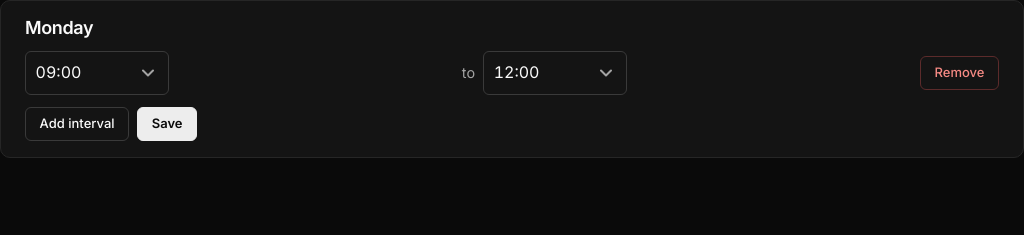
Test: BusinessHoursDayEditor › rejects an interval that closes before it opens
Select "09:00" in the dropdown named "Monday interval 1 closes". click: (555, 73)
box: [483, 51, 627, 95]
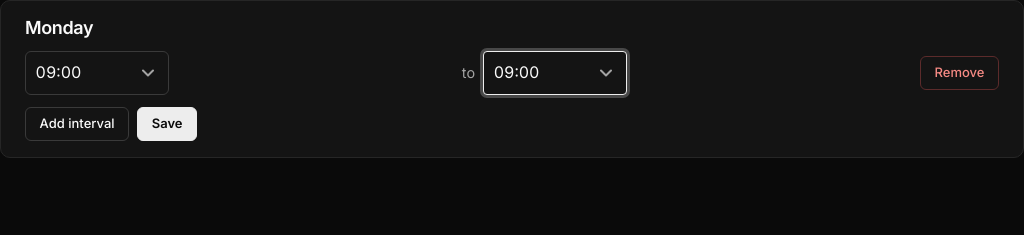
Click the button named "Save Monday hours". click: (167, 124)
box: [137, 107, 197, 141]
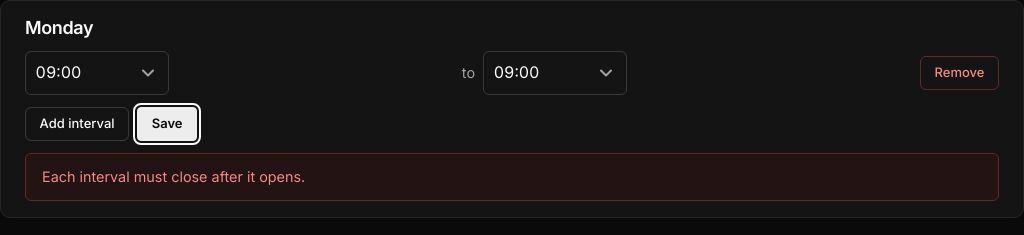
expect the message reads "Each interval must close after it opens.": met, box [42, 168, 305, 185]
